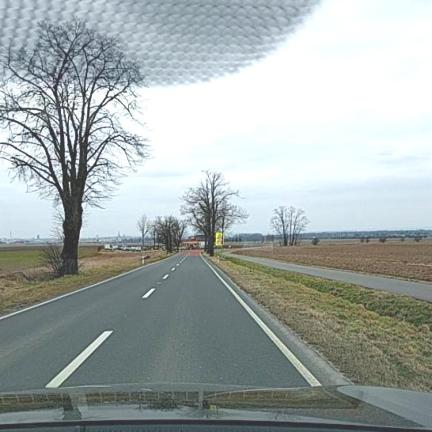Road: (0, 253, 319, 391), (229, 254, 431, 302)
